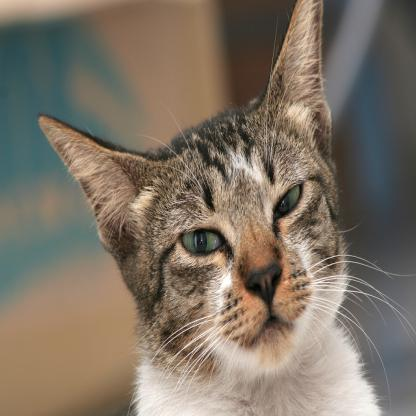Dog: (74, 79, 385, 388)
